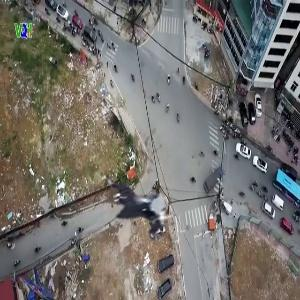drone: (85, 165, 178, 258)
